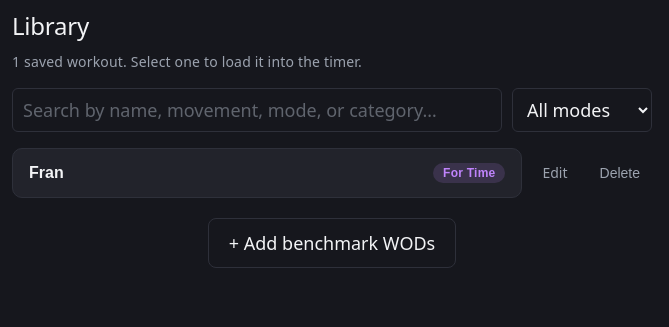
Test case: narrowing the list › distinguishes no matches from an empty library
The width and height of the screenshot is (669, 327).
Expected: the text "Fran" is shown, [29,164,64,182]
Step 1. Type "nothing" into the search field named "Search workouts" → {"x": 257, "y": 110}, box [12,88,502,132]
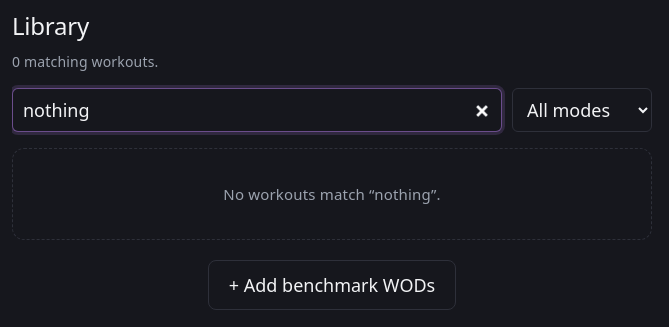
Result: the text "No workouts match “nothing”." is shown at [12,148,652,240]
